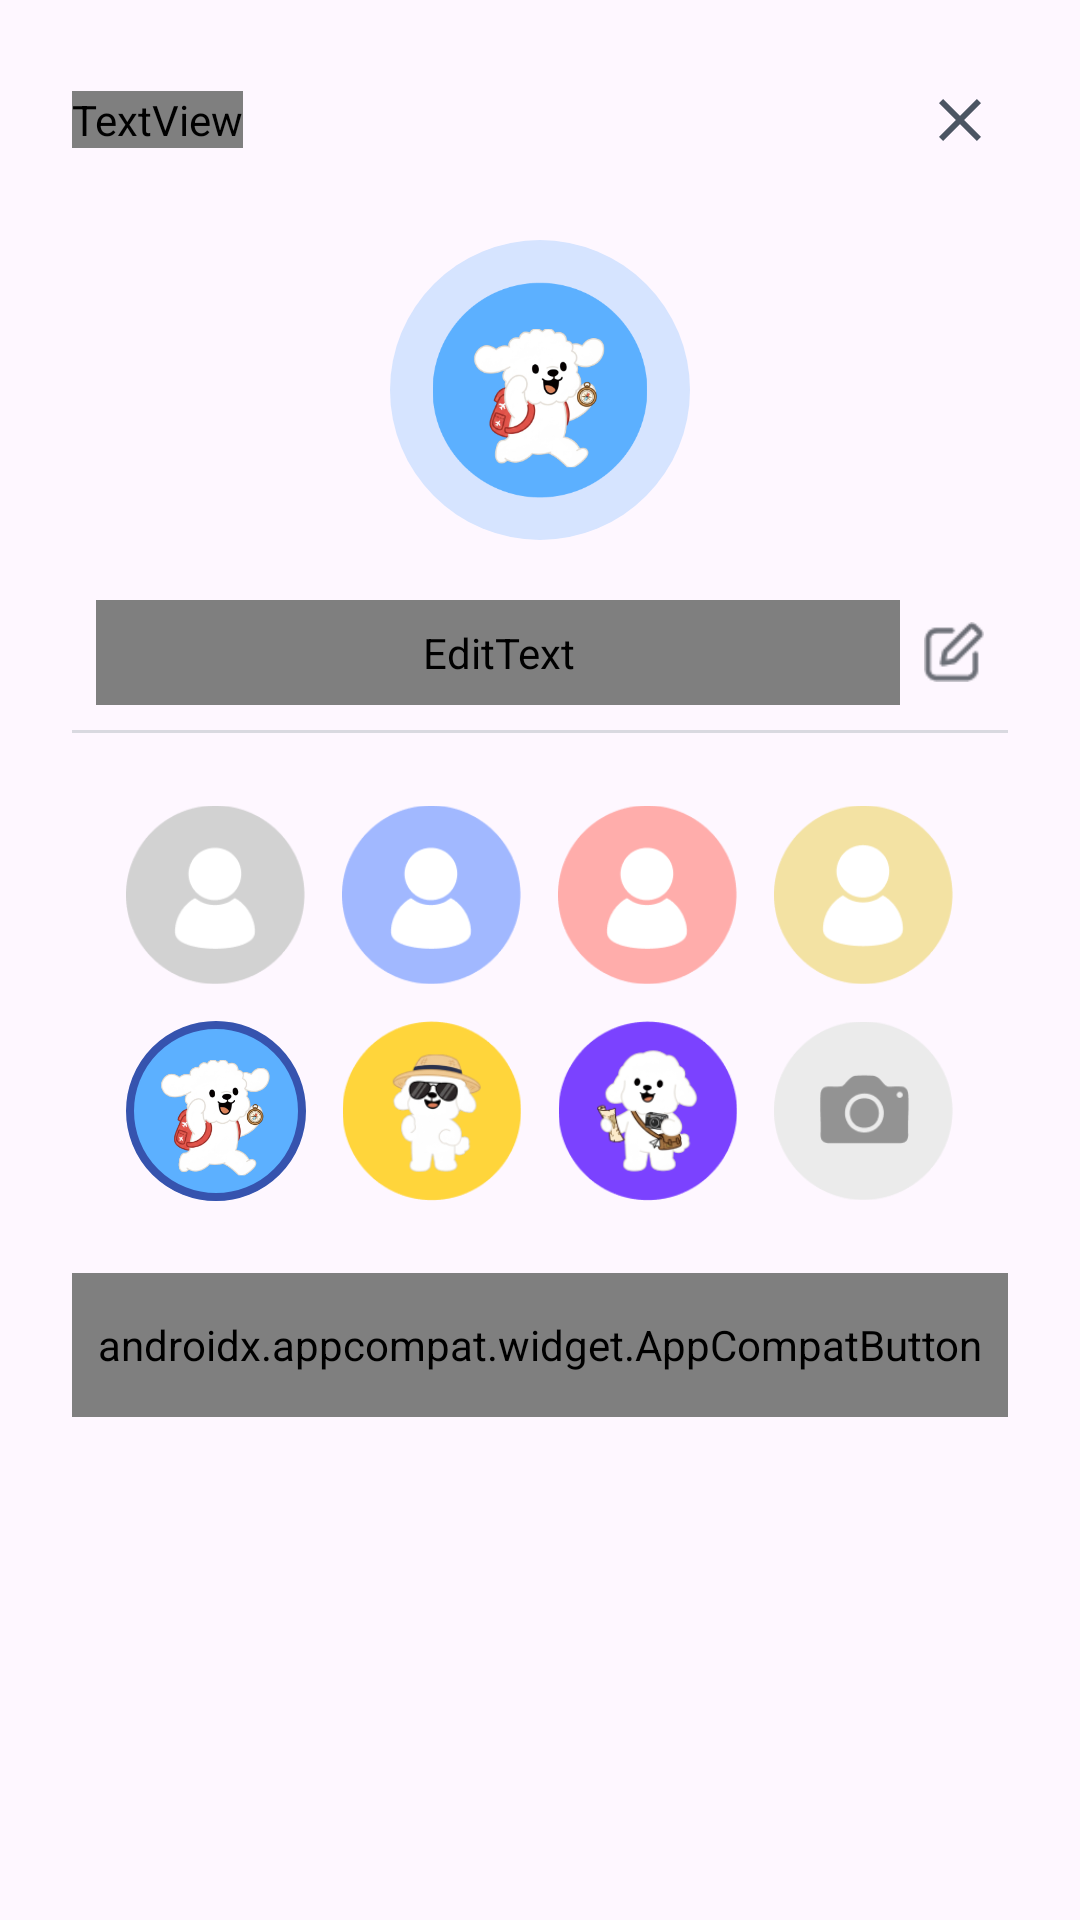

Where to tap for icons on this 1080*1920 app screen, as point (x, y):
닫기: point (960, 120)
수정: point (954, 652)
프로필 1: point (215, 895)
프로필 2: point (431, 895)
프로필 3: point (647, 895)
프로필 4: point (863, 895)
프로필 5: point (216, 1111)
프로필 6: point (432, 1111)
프로필 7: point (648, 1110)
프로필 미리보기: point (540, 390)
